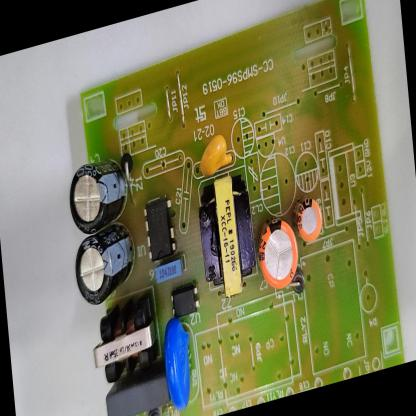Cap1: (255, 205, 303, 298)
Cap2: (292, 190, 325, 249)
Cap3: (70, 220, 141, 312)
Cap4: (64, 150, 132, 238)
MOSFET: (141, 195, 179, 262)
Mov: (161, 310, 197, 416)
Resistor: (144, 404, 167, 416)
Transformer: (193, 166, 259, 304), (89, 298, 157, 386)
